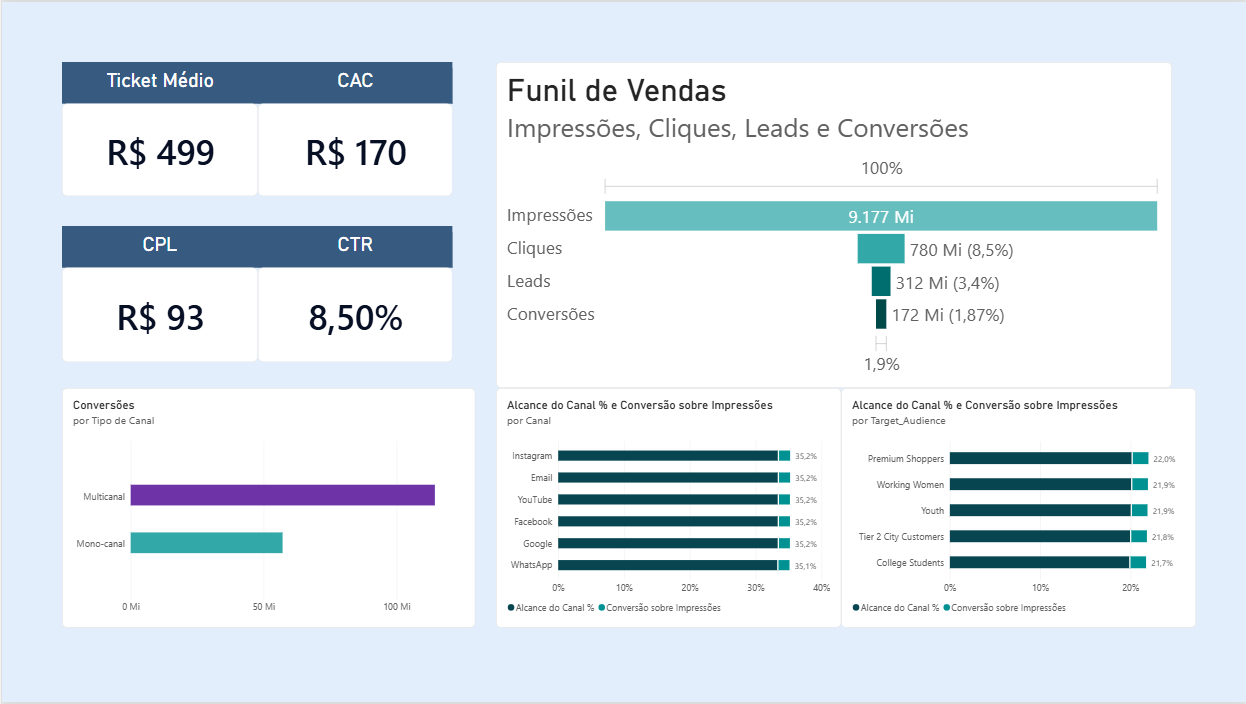

The dashboard page shown, as its layout file describes it:
{"tool":"powerbi","page":{"name":"Funil Performance","canvas":[1920,1080],"ordinal":1},"visuals":[{"type":"cardVisual","title":"CAC","fields":{"Data":["_Medidas.CAC"]},"box":[395,92.5,300,207.5],"z":0},{"type":"cardVisual","title":"CTR","fields":{"Data":["_Medidas.CTR"]},"box":[395,345,300,210],"z":1000},{"type":"cardVisual","title":"CPL","fields":{"Data":["_Medidas.CPL"]},"box":[92.5,345,302.5,210],"z":2000},{"type":"cardVisual","title":"Ticket Médio","fields":{"Data":["_Medidas.Ticket Médio"]},"box":[92.5,92.5,302.5,207.5],"z":3000},{"type":"funnel","title":"Funil de Vendas","fields":{"Y":["_Medidas.Impressões","_Medidas.Cliques","_Medidas.Leads","_Medidas.Conversões"]},"box":[762.5,92.5,1042.5,502.5],"z":4000},{"type":"barChart","fields":{"Category":["campaign_analytics.Target_Audience"],"Y":["_Medidas.Alcance do Canal %","_Medidas.Conversão sobre Impressões"]},"box":[1295,595,547.5,370],"z":5000},{"type":"barChart","fields":{"Category":["Campanha_Canal.Canal"],"Y":["_Medidas.Alcance do Canal %","_Medidas.Conversão sobre Impressões"]},"box":[762.5,595,533.3,370],"z":6000},{"type":"barChart","fields":{"Category":["campaign_analytics.Tipo de Canal"],"Y":["_Medidas.Conversões"]},"box":[92.5,595,637.5,370],"z":7000}]}

Visuals, with their boxes in screenshot pixels (x1, y1, x2, y2), scaled from the page's 1920x1080 canvas onto the 1246x704 screenshot:
"CAC" cardVisual: {"left": 256, "top": 60, "right": 451, "bottom": 196}
"CTR" cardVisual: {"left": 256, "top": 225, "right": 451, "bottom": 362}
"CPL" cardVisual: {"left": 60, "top": 225, "right": 256, "bottom": 362}
"Ticket Médio" cardVisual: {"left": 60, "top": 60, "right": 256, "bottom": 196}
"Funil de Vendas" funnel: {"left": 495, "top": 60, "right": 1171, "bottom": 388}
barChart - campaign_analytics.Target_Audience x _Medidas.Alcance do Canal %: {"left": 840, "top": 388, "right": 1196, "bottom": 629}
barChart - Campanha_Canal.Canal x _Medidas.Alcance do Canal %: {"left": 495, "top": 388, "right": 841, "bottom": 629}
barChart - campaign_analytics.Tipo de Canal x _Medidas.Conversões: {"left": 60, "top": 388, "right": 474, "bottom": 629}
